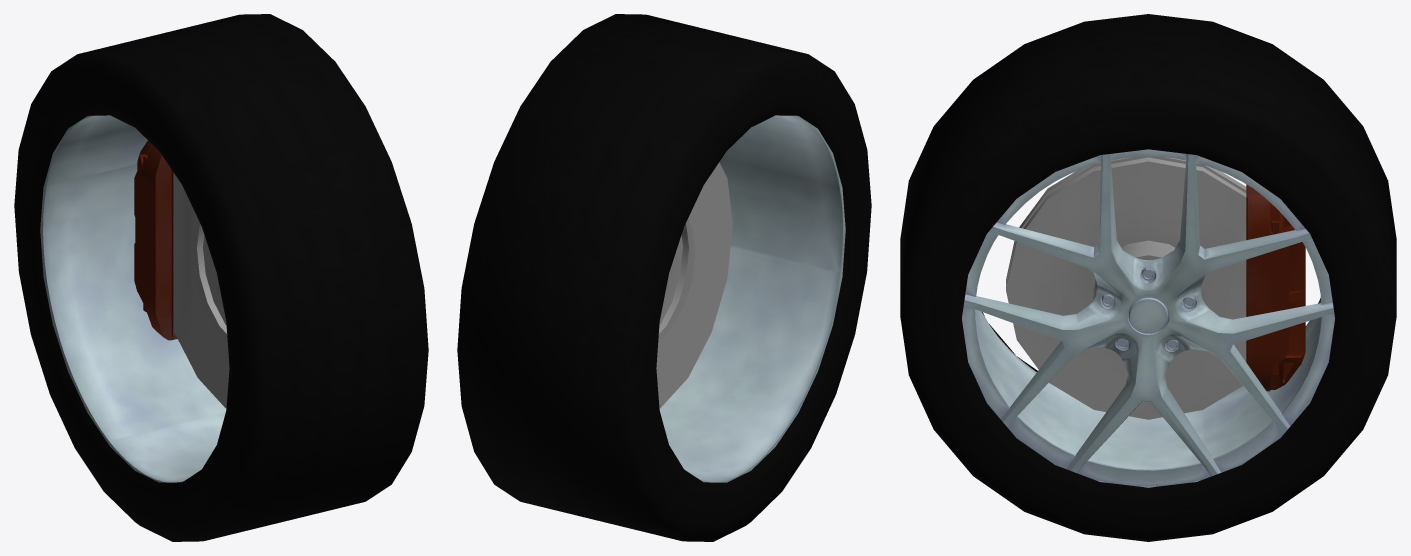
The picture shows the model from 3 angles, left to right: view 1: azimuth 30°, elevation 25°; view 2: azimuth 150°, elevation 25°; view 3: azimuth 270°, elevation 25°; orthographic projection.
Parts seen in each view (by area): view 1: tire-low, wheel-full, brake-disc, brake-caliper; view 2: tire-low, wheel-full, brake-disc; view 3: tire-low, wheel-full, brake-disc, brake-caliper.
Part boxes in pixels (left/top/right/bottom): tire-low: left=14, top=14, right=428, bottom=541; wheel-full: left=40, top=115, right=226, bottom=482; brake-disc: left=173, top=173, right=229, bottom=408; brake-caliper: left=134, top=140, right=177, bottom=340; tire-low: left=457, top=14, right=871, bottom=541; wheel-full: left=659, top=115, right=845, bottom=482; brake-disc: left=656, top=162, right=732, bottom=408; tire-low: left=900, top=14, right=1396, bottom=541; wheel-full: left=962, top=149, right=1334, bottom=487; brake-disc: left=1006, top=156, right=1246, bottom=419; brake-caliper: left=1246, top=184, right=1305, bottom=391.
Bounding box in the file's own units: 0.3112 × 0.7561 × 0.7561.
2 materials, 2 textured.
